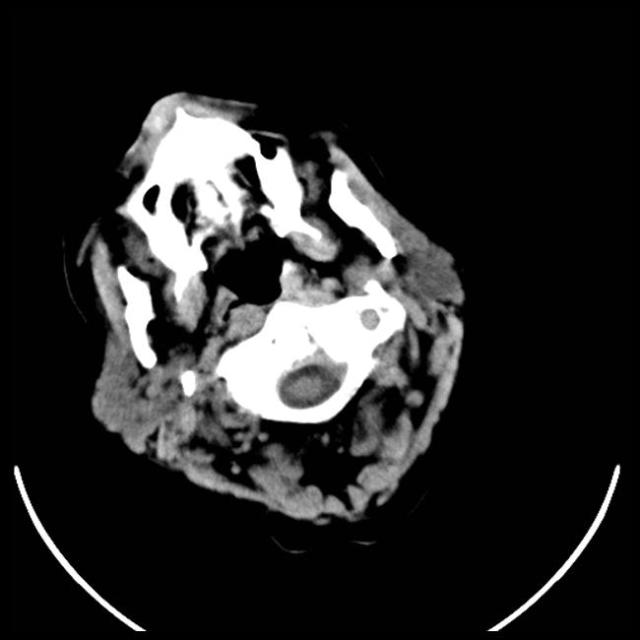lesion: (68, 86, 472, 534)
